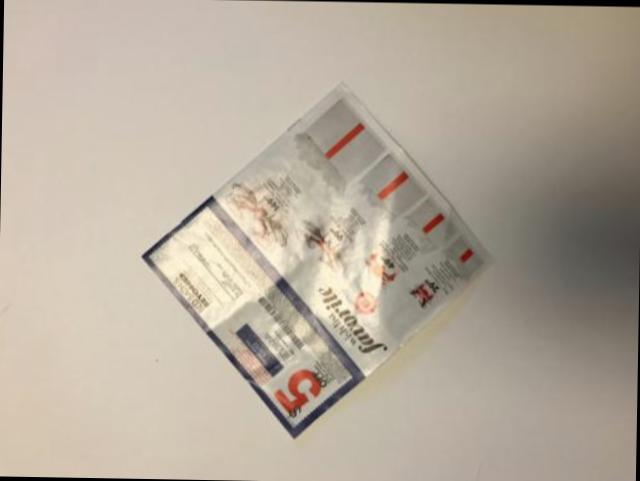cardboard paper: (142, 81, 489, 433)
